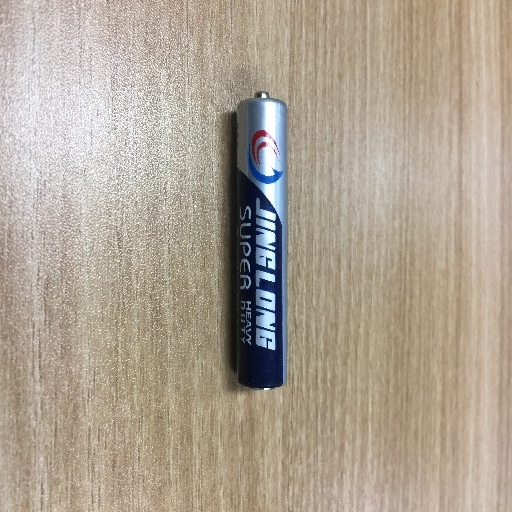Battery_0: (206, 73, 309, 413)
